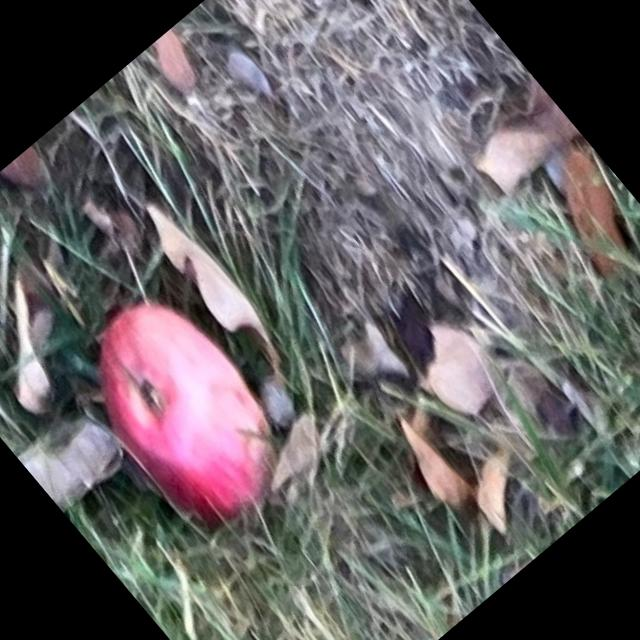Apples: (59, 282, 304, 538)
